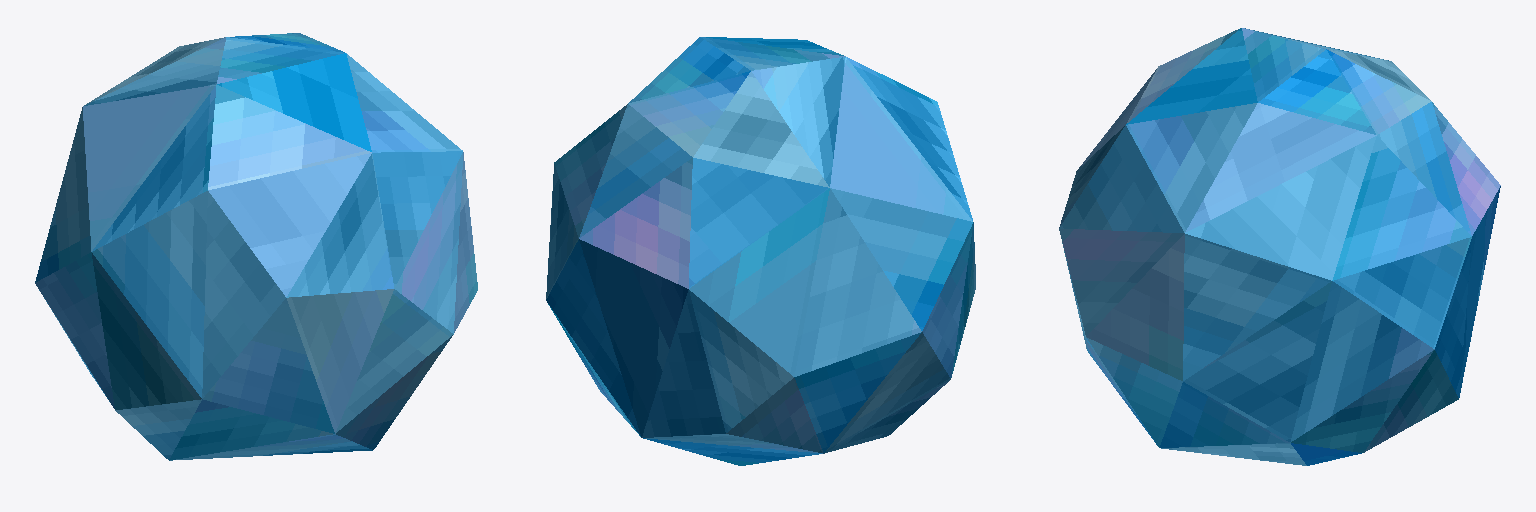
3 renders of one model, left to right at view 1: azimuth 30°, elevation 25°; view 2: azimuth 150°, elevation 25°; view 3: azimuth 270°, elevation 25°, orthographic.
Visible parts, largest first — view 1: Sphere001.002_Sphere001.001; view 2: Sphere001.002_Sphere001.001; view 3: Sphere001.002_Sphere001.001.
Boxes of the visible parts, x1,y1,x2,y2 form: Sphere001.002_Sphere001.001: [35, 33, 477, 460]; Sphere001.002_Sphere001.001: [546, 37, 975, 465]; Sphere001.002_Sphere001.001: [1059, 28, 1500, 465].
Size of the model in its own units: 0.0063 by 0.0066 by 0.0065.
Materials: 1 (1 with a texture image).